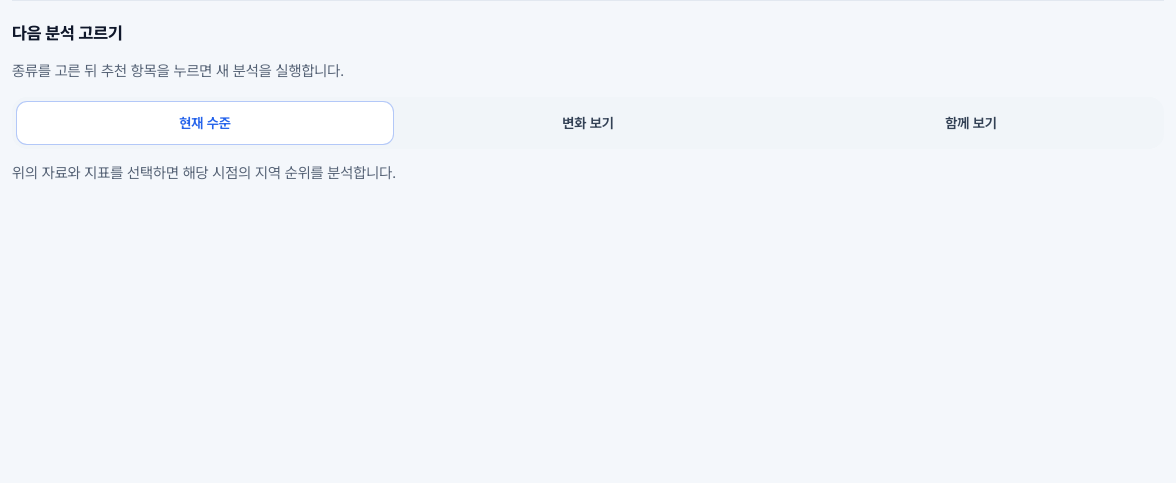
Scenario: AnalysisMethods › reveals only the selected method and changes modes without triggering analyses
The width and height of the screenshot is (1176, 483).
Step 1. Click the button "변화 보기" → (588, 123), box [399,101,777,145]
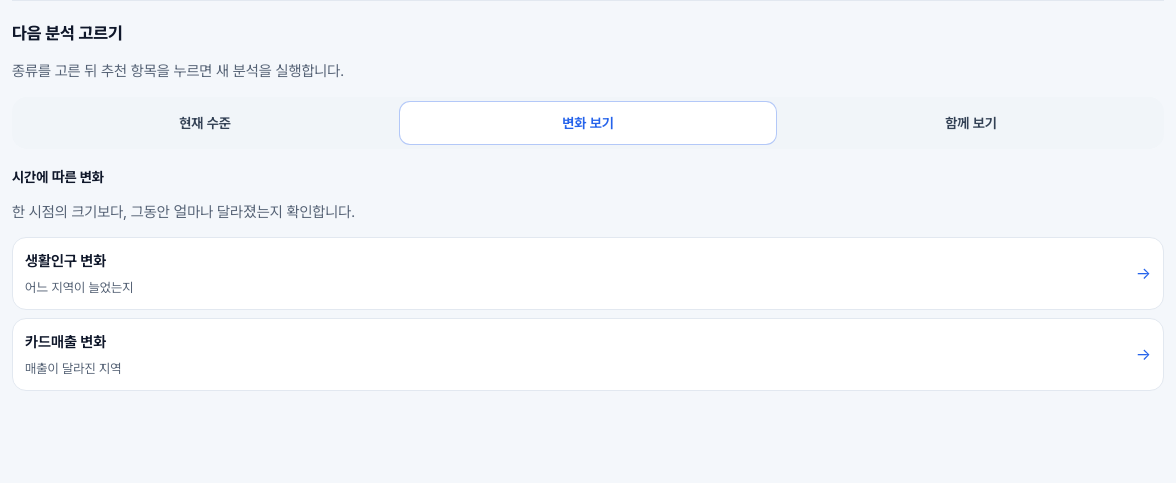
Expected: the element with test id "trend-presets" is shown, [12,167,1164,391]
Step 2. Click the button "함께 보기" → (971, 123), box [782,101,1160,145]
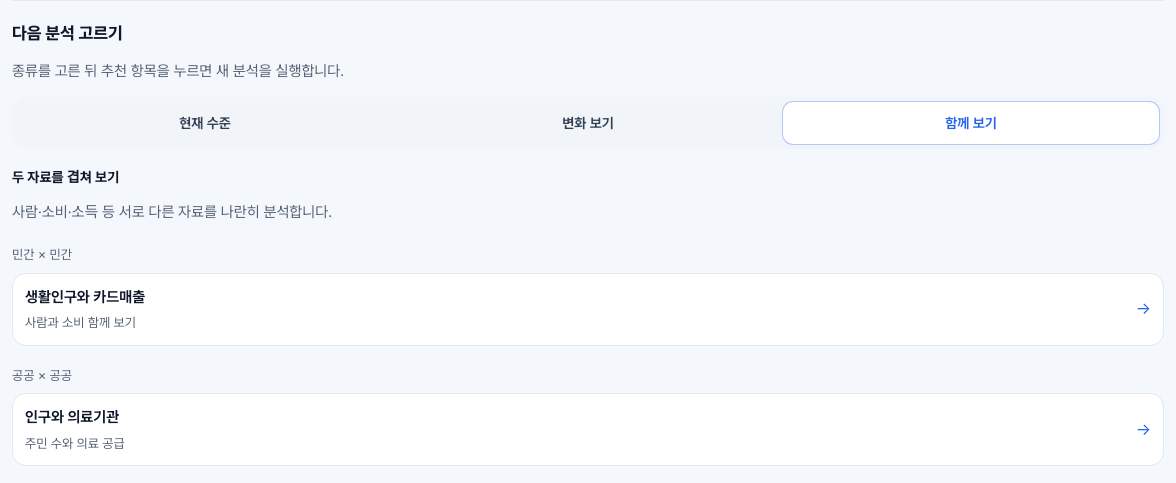
Expected: the element with test id "trend-presets" is gone
Expected: the element with test id "cross-presets" is shown
Step 3. Click the button "현재 수준" → (205, 123), box [16,101,394,145]
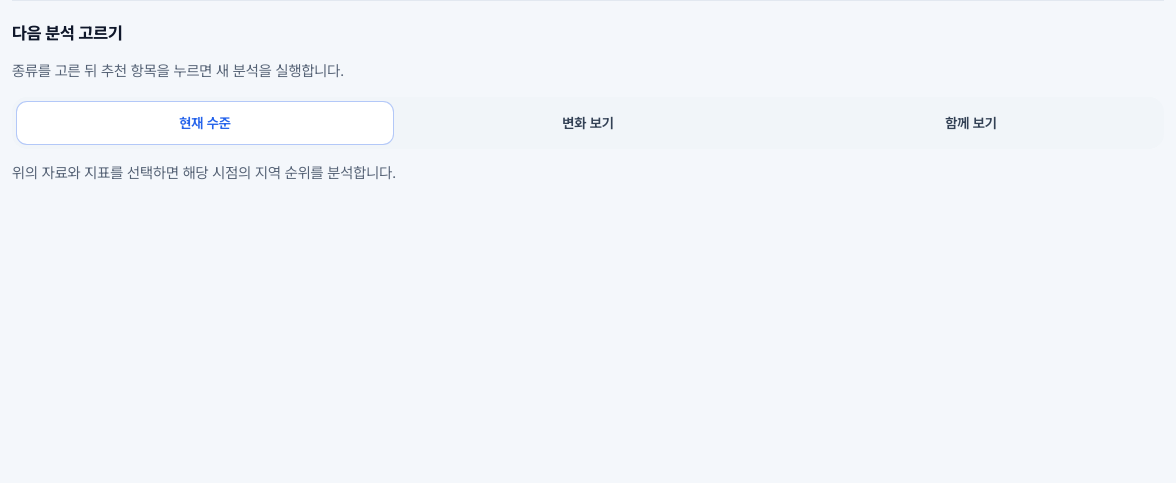
Expected: the element with test id "cross-presets" is gone
